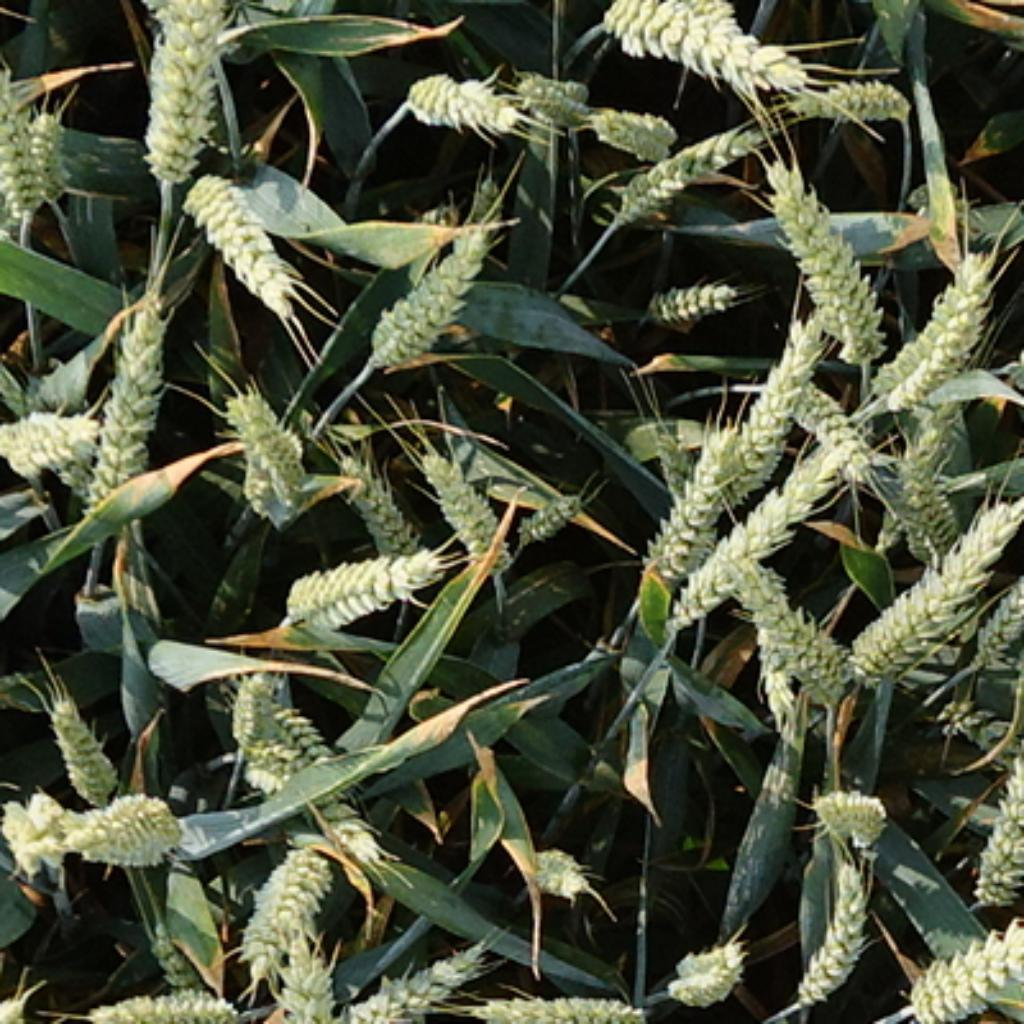0-0: (654, 467, 833, 657), (837, 503, 1021, 683), (762, 153, 893, 360), (716, 540, 855, 704), (358, 209, 501, 366), (79, 286, 181, 504), (588, 2, 814, 92), (872, 243, 998, 404), (130, 2, 240, 181), (724, 309, 826, 499), (184, 174, 312, 320), (615, 433, 728, 587), (601, 115, 760, 220), (243, 751, 385, 864), (273, 537, 442, 627), (332, 929, 488, 1024), (785, 849, 880, 1000), (230, 844, 337, 975), (419, 435, 517, 570), (335, 453, 430, 588), (765, 373, 878, 486), (222, 373, 309, 506), (962, 724, 1024, 908), (744, 565, 808, 742), (64, 788, 189, 870), (43, 693, 133, 803), (2, 391, 102, 481), (404, 66, 527, 138), (84, 972, 248, 1024), (896, 450, 960, 568), (657, 934, 750, 1011), (271, 949, 366, 1024), (455, 988, 652, 1024), (2, 74, 46, 227), (796, 64, 913, 120), (637, 268, 742, 330), (2, 788, 71, 875), (801, 778, 888, 844), (583, 94, 678, 153), (512, 58, 596, 122), (264, 706, 339, 775), (514, 481, 588, 545), (972, 579, 1024, 668), (522, 842, 591, 901), (227, 673, 279, 747), (28, 104, 66, 204), (653, 429, 691, 499)
